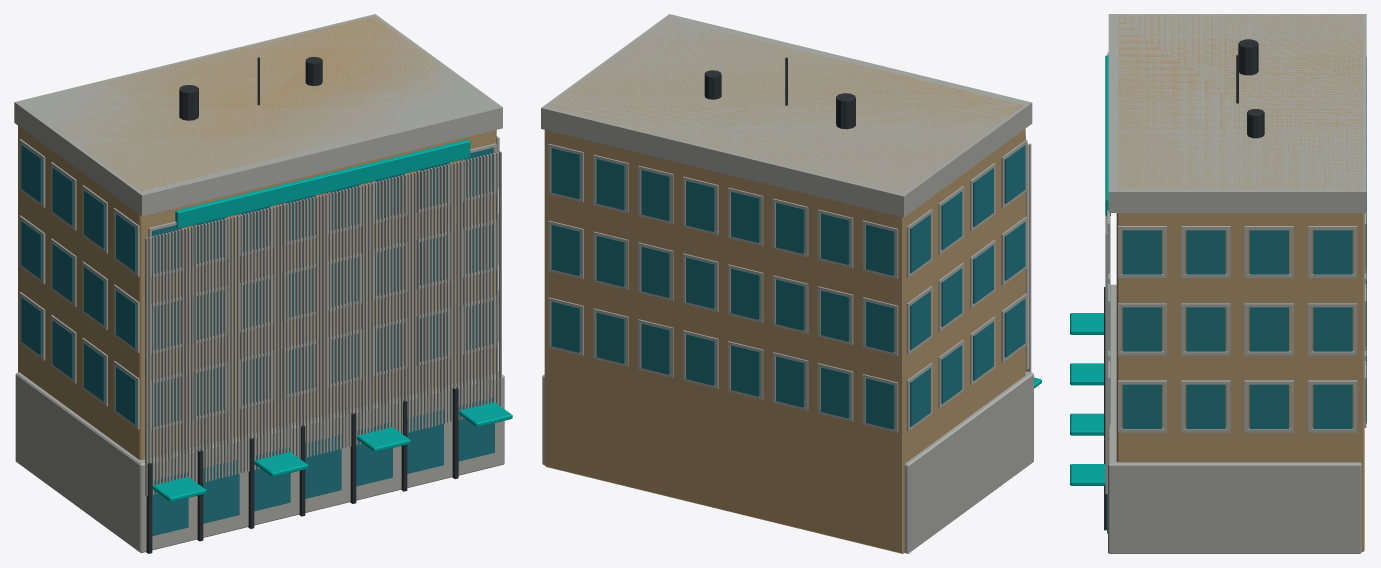
File: JHB_MidRise03_LOD0.fbx
The picture shows the model from 3 angles, left to right: view 1: azimuth 30°, elevation 25°; view 2: azimuth 150°, elevation 25°; view 3: azimuth 270°, elevation 25°; orthographic projection.
Visible parts, largest first — view 1: JHB_MidRise03_LOD0_Concrete, JHB_MidRise03_LOD0_FacadeAtlas, JHB_MidRise03_LOD0_TealGlass, JHB_MidRise03_LOD0_BlankSignBand, JHB_MidRise03_LOD0_DarkMetal, JHB_MidRise03_LOD0_Accent; view 2: JHB_MidRise03_LOD0_FacadeAtlas, JHB_MidRise03_LOD0_Concrete, JHB_MidRise03_LOD0_TealGlass, JHB_MidRise03_LOD0_DarkMetal; view 3: JHB_MidRise03_LOD0_Concrete, JHB_MidRise03_LOD0_FacadeAtlas, JHB_MidRise03_LOD0_TealGlass, JHB_MidRise03_LOD0_Accent, JHB_MidRise03_LOD0_DarkMetal, JHB_MidRise03_LOD0_BlankSignBand.
Part boxes in pixels (left/top/right/bottom): JHB_MidRise03_LOD0_Concrete: left=14, top=14, right=504, bottom=552; JHB_MidRise03_LOD0_FacadeAtlas: left=18, top=16, right=496, bottom=459; JHB_MidRise03_LOD0_TealGlass: left=21, top=144, right=494, bottom=536; JHB_MidRise03_LOD0_BlankSignBand: left=175, top=139, right=470, bottom=228; JHB_MidRise03_LOD0_DarkMetal: left=146, top=57, right=458, bottom=553; JHB_MidRise03_LOD0_Accent: left=152, top=402, right=512, bottom=502; JHB_MidRise03_LOD0_FacadeAtlas: left=544, top=19, right=1025, bottom=553; JHB_MidRise03_LOD0_Concrete: left=541, top=14, right=1033, bottom=553; JHB_MidRise03_LOD0_TealGlass: left=551, top=145, right=1025, bottom=429; JHB_MidRise03_LOD0_DarkMetal: left=704, top=57, right=1028, bottom=371; JHB_MidRise03_LOD0_Concrete: left=1105, top=14, right=1366, bottom=553; JHB_MidRise03_LOD0_FacadeAtlas: left=1116, top=15, right=1364, bottom=551; JHB_MidRise03_LOD0_TealGlass: left=1107, top=57, right=1366, bottom=533; JHB_MidRise03_LOD0_Accent: left=1070, top=313, right=1105, bottom=485; JHB_MidRise03_LOD0_DarkMetal: left=1104, top=39, right=1264, bottom=530; JHB_MidRise03_LOD0_BlankSignBand: left=1105, top=55, right=1110, bottom=216.
Bounding box in the file's own units: 11.75 × 12.45 × 8.18.
6 materials, 1 textured.
